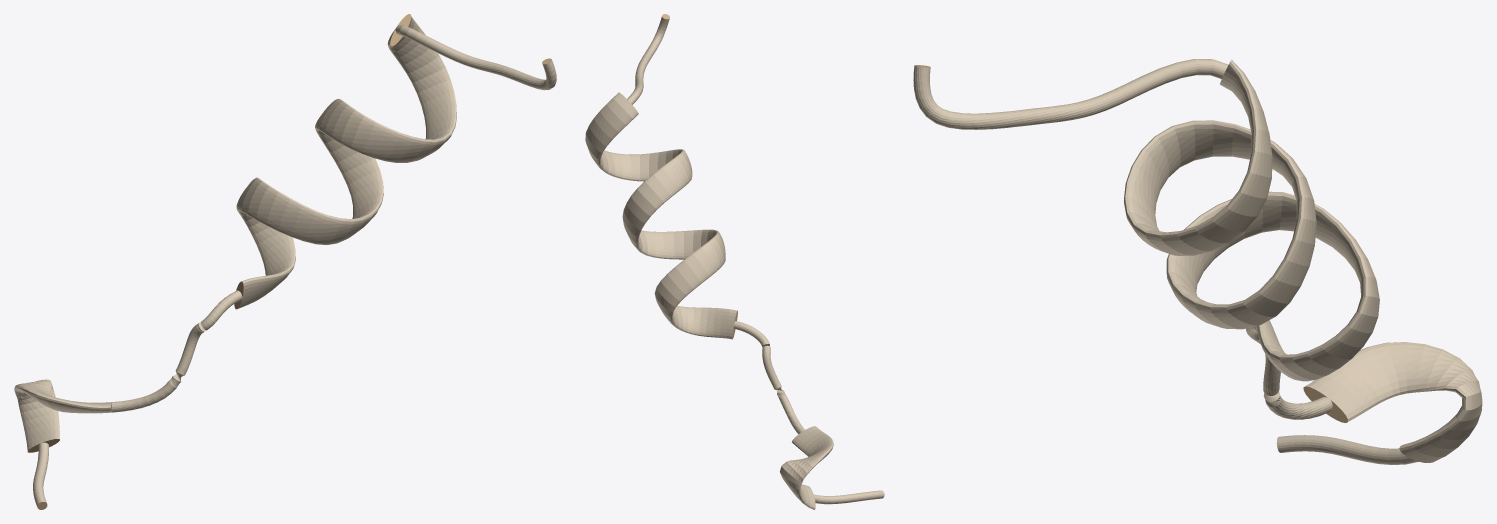
File: SheetrCoil.dae
The picture shows the model from 3 angles, left to right: view 1: azimuth 30°, elevation 25°; view 2: azimuth 150°, elevation 25°; view 3: azimuth 270°, elevation 25°; orthographic projection. The views are drawn at different scales.
Visible parts, largest first — view 1: Shape_IndexedTriangleStripSet_023; view 2: Shape_IndexedTriangleStripSet_023; view 3: Shape_IndexedTriangleStripSet_023.
Boxes of the visible parts, left/top/right/bottom form: Shape_IndexedTriangleStripSet_023: left=14, top=14, right=556, bottom=509; Shape_IndexedTriangleStripSet_023: left=585, top=14, right=884, bottom=509; Shape_IndexedTriangleStripSet_023: left=913, top=59, right=1482, bottom=464.
Bounding box in the file's own units: 22.27 × 17.32 × 23.04.
